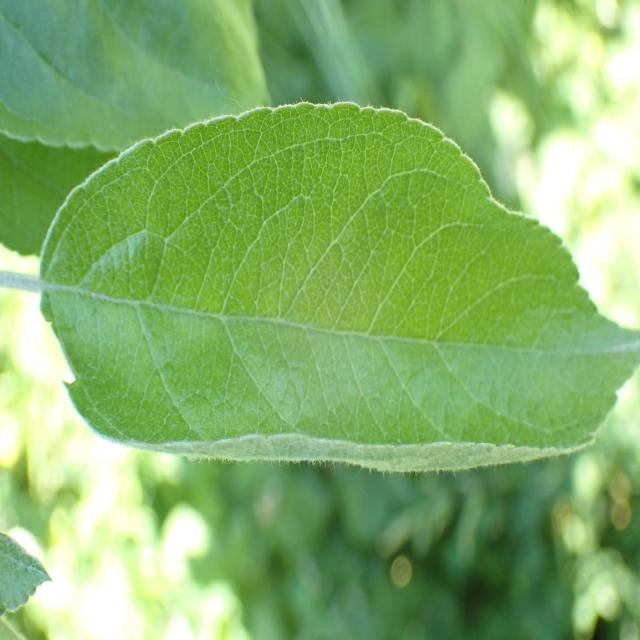healthy: (39, 101, 640, 473), (0, 0, 271, 152)
